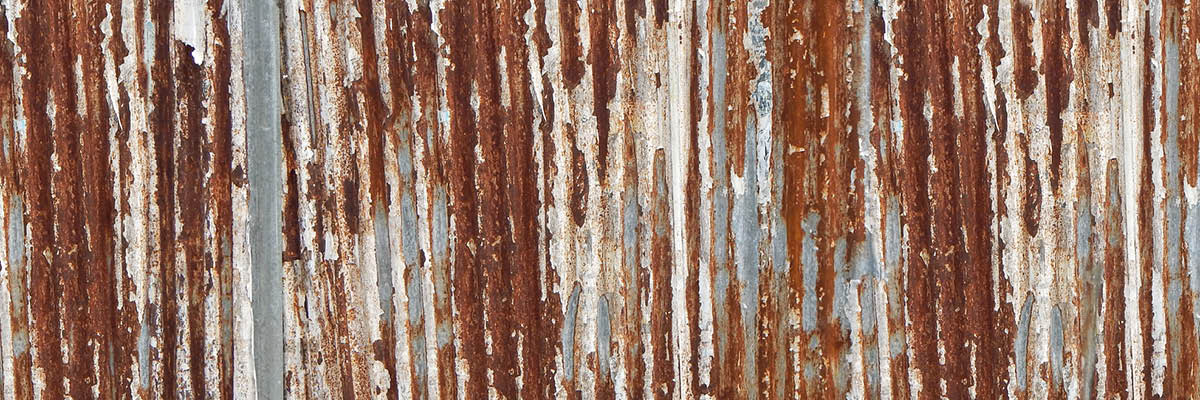rust: (764, 1, 1011, 400), (357, 3, 570, 398), (13, 2, 121, 393)
